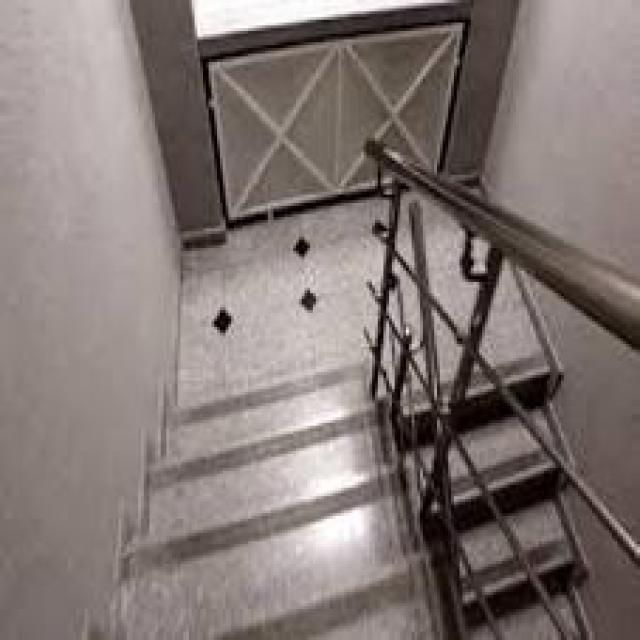stair: (148, 383, 418, 634)
